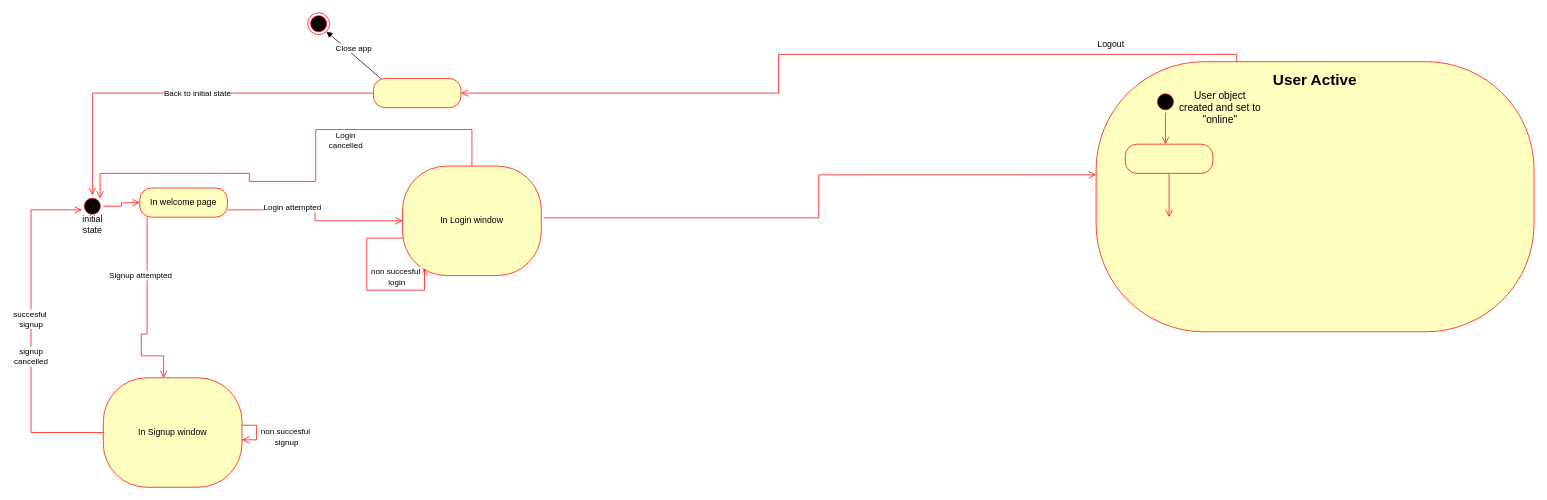
The diagram is 1547 pixels wide and 500 high, and some of its shapes have lost their labels. The shapes that lost their labels are listed below. From the top down, each one's centre as x and y in pixels, then its label:
At pixel 417 93: "Offline state (Session terminated)".
At pixel 1169 158: "User Idle (Awating event)".
